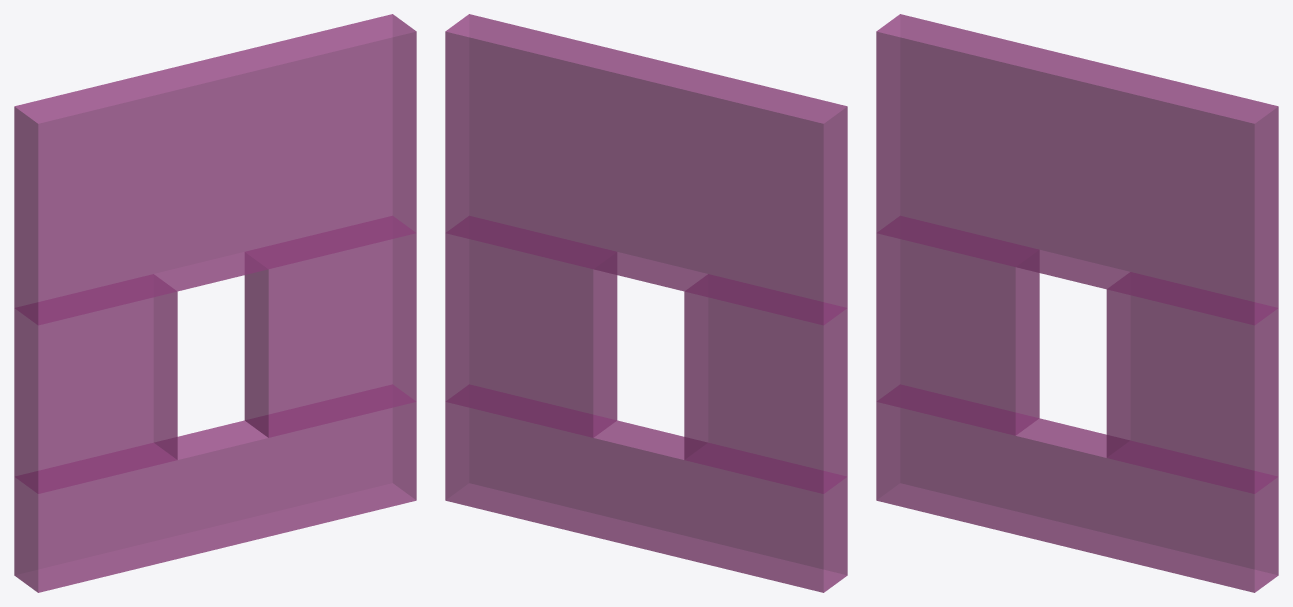
Rendered from SM_Bld_Wall_Hole_01_Collision.fbx.
3 renders of one model, left to right at view 1: azimuth 30°, elevation 25°; view 2: azimuth 150°, elevation 25°; view 3: azimuth 330°, elevation 25°, orthographic.
Visible parts, largest first — view 1: SM_Bld_Wall_Hole_01_Collision; view 2: SM_Bld_Wall_Hole_01_Collision; view 3: SM_Bld_Wall_Hole_01_Collision.
Boxes of the visible parts, box(x1,y1,x2,y2) form: SM_Bld_Wall_Hole_01_Collision: box(14, 14, 416, 592); SM_Bld_Wall_Hole_01_Collision: box(445, 14, 847, 592); SM_Bld_Wall_Hole_01_Collision: box(876, 14, 1278, 592).
Bounding box in the file's own units: 255 × 302 × 27.94.
